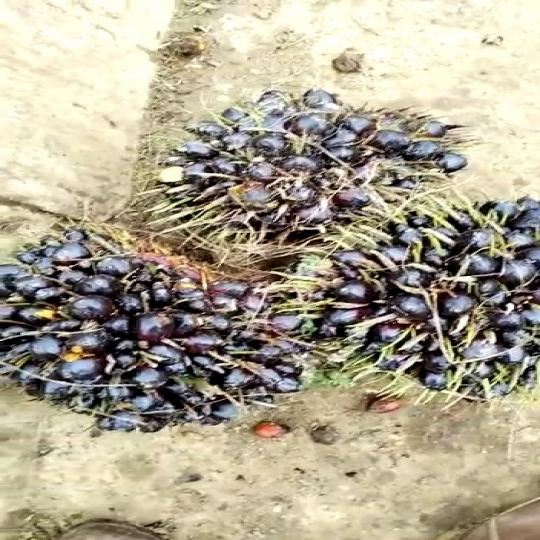mentah: (0, 192, 330, 423), (136, 78, 473, 247), (307, 180, 540, 410)
